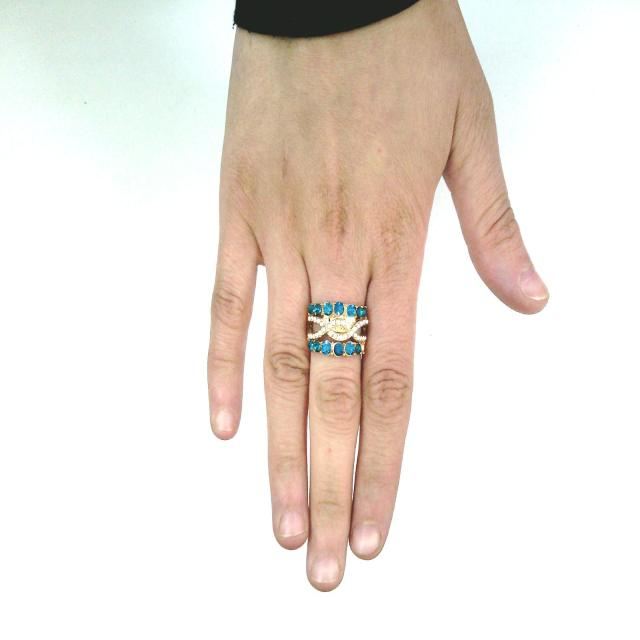hand: (203, 27, 554, 594)
